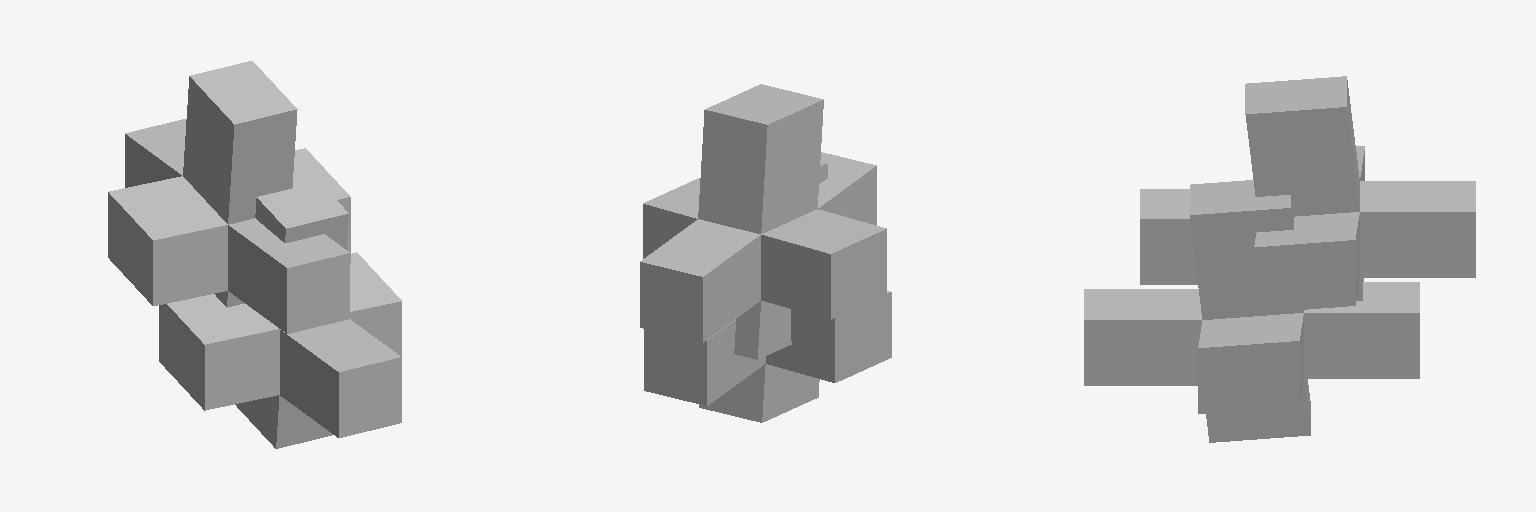
File: TAL16OBJ.obj
The picture shows the model from 3 angles: view 1: azimuth 30°, elevation 25°; view 2: azimuth 150°, elevation 25°; view 3: azimuth 270°, elevation 25°; orthographic projection.
Parts seen in each view (by area): view 1: Cube.001_Cube, Cube; view 2: Cube.001_Cube, Cube; view 3: Cube, Cube.001_Cube.
Part boxes in pixels (x1,y1,x2,y2): Cube.001_Cube: (108, 61, 350, 333); Cube: (159, 165, 401, 448); Cube.001_Cube: (640, 84, 886, 359); Cube: (644, 161, 891, 422); Cube: (1084, 180, 1419, 442); Cube.001_Cube: (1140, 76, 1475, 312).
Bounding box in the file's own units: 7.04 × 9.92 × 10.78.